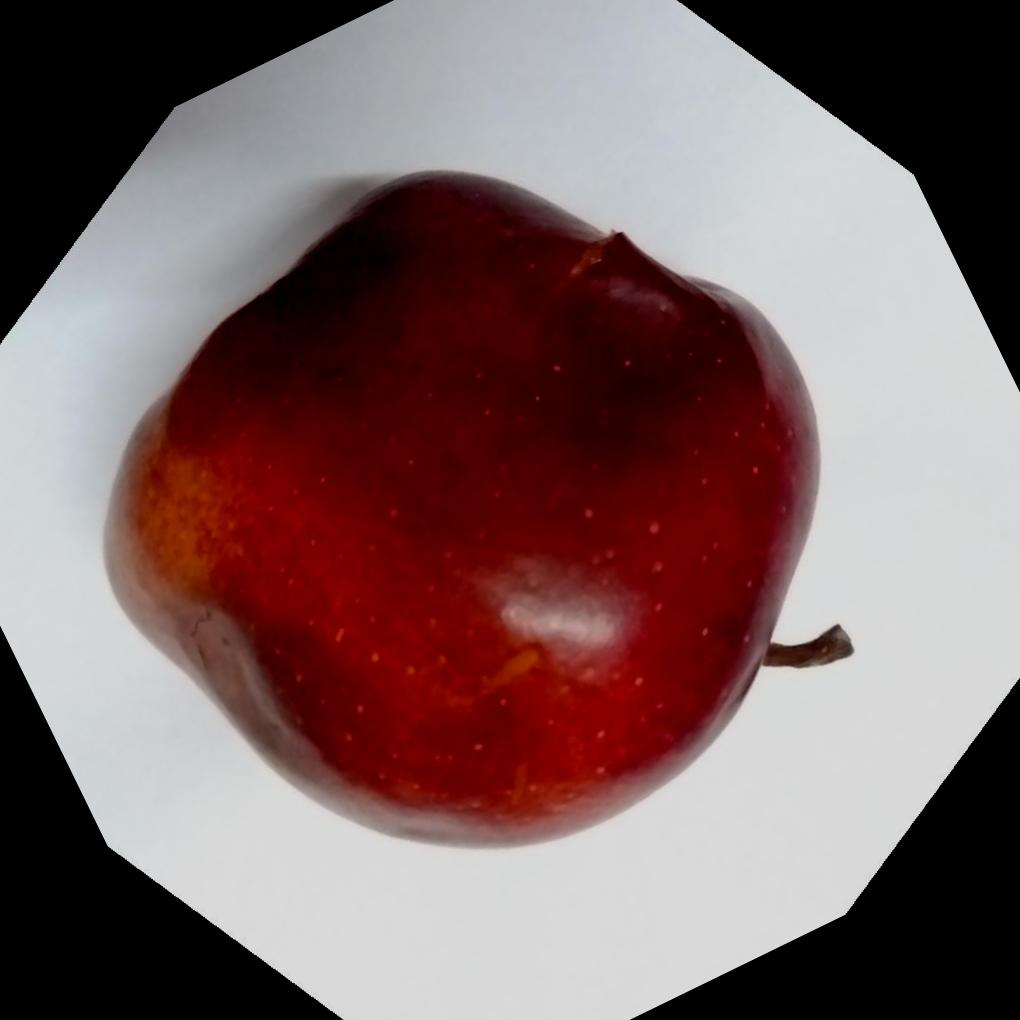FreshOrange: (97, 170, 819, 849)
